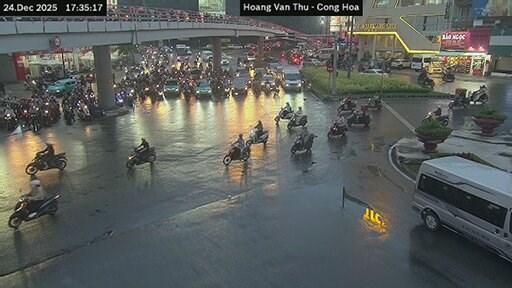motorbike: (7, 193, 58, 228), (25, 152, 66, 174), (125, 147, 156, 167), (223, 145, 249, 165), (291, 133, 316, 153), (246, 127, 267, 144), (422, 112, 448, 125), (346, 112, 370, 126), (327, 121, 345, 138), (469, 85, 486, 102), (448, 95, 469, 108), (274, 108, 293, 122), (336, 98, 355, 112), (416, 75, 434, 88), (3, 112, 16, 130), (288, 115, 306, 127), (77, 104, 89, 120), (64, 106, 73, 124), (368, 95, 380, 108), (262, 81, 272, 94), (441, 71, 454, 80), (24, 80, 35, 89)
